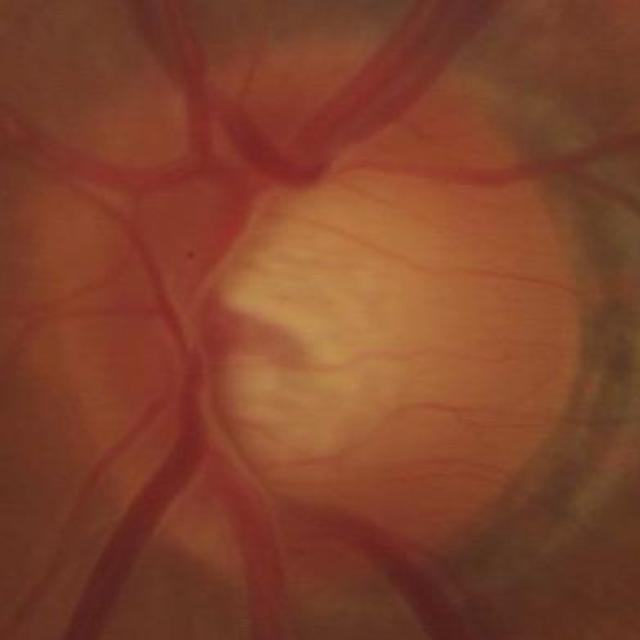OC: (201, 185, 411, 471)
OD: (32, 39, 580, 590)
